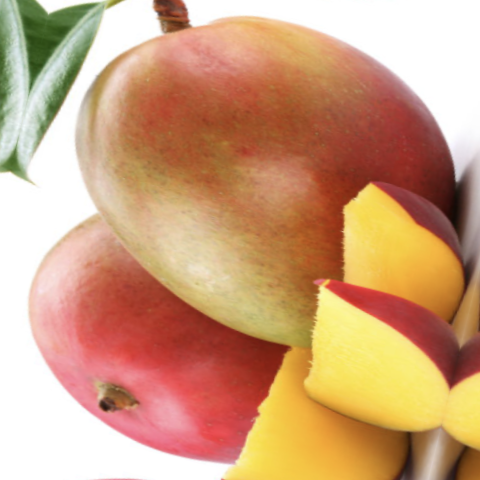mango: (30, 0, 480, 395)
